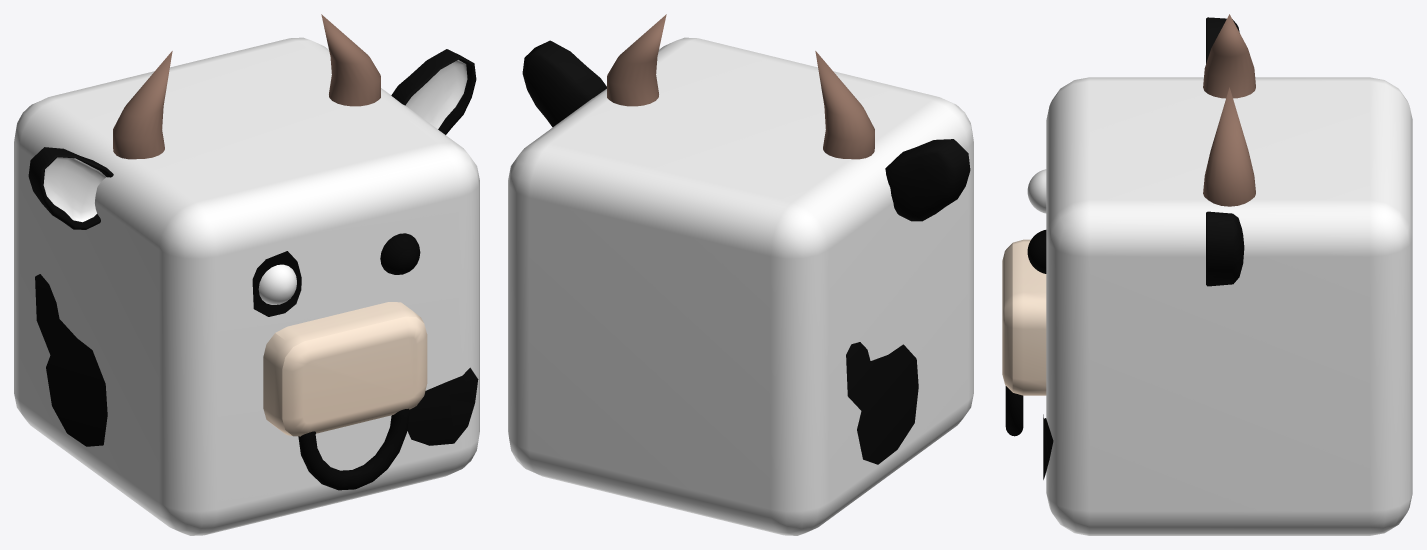
Rendered from Cow.fbx.
3 renders of one model, left to right at view 1: azimuth 30°, elevation 25°; view 2: azimuth 150°, elevation 25°; view 3: azimuth 270°, elevation 25°, orthographic.
Visible parts, largest first — view 1: Cow; view 2: Cow; view 3: Cow.
Boxes of the visible parts, <box> form: Cow: <box>14,14,479,535</box>; Cow: <box>508,14,973,535</box>; Cow: <box>1002,14,1412,535</box>.
Size of the model in its own units: 1.39 by 1.27 by 1.12.
